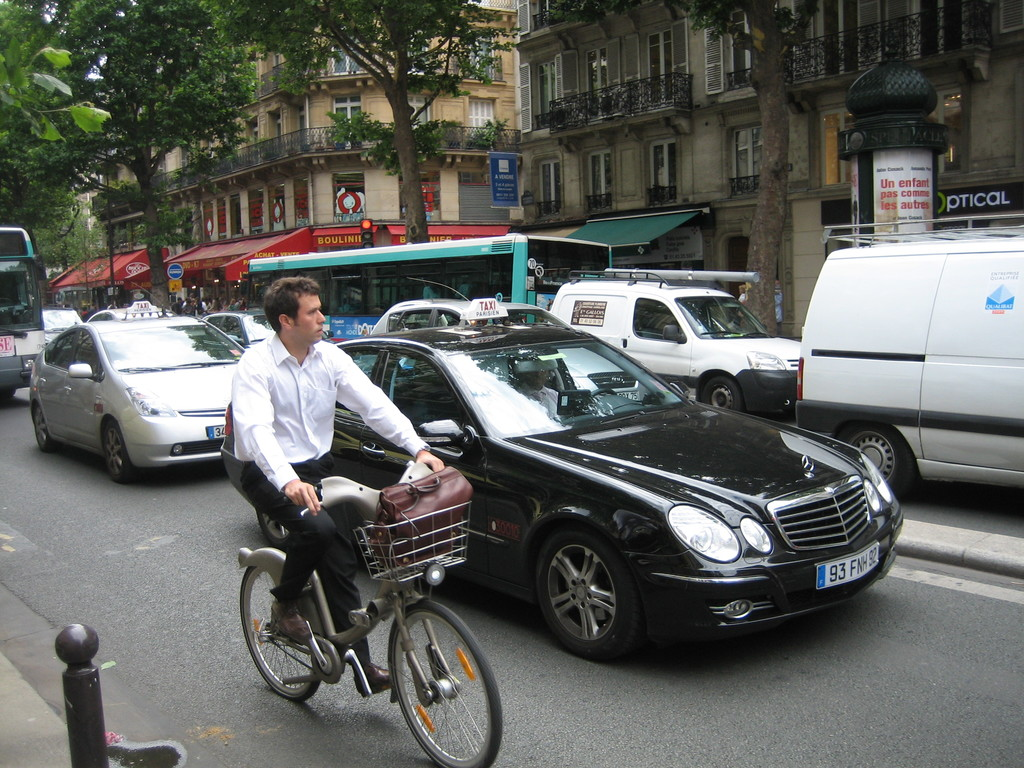Car: (220, 308, 904, 669), (26, 312, 252, 481), (367, 295, 655, 399), (207, 307, 282, 341)
